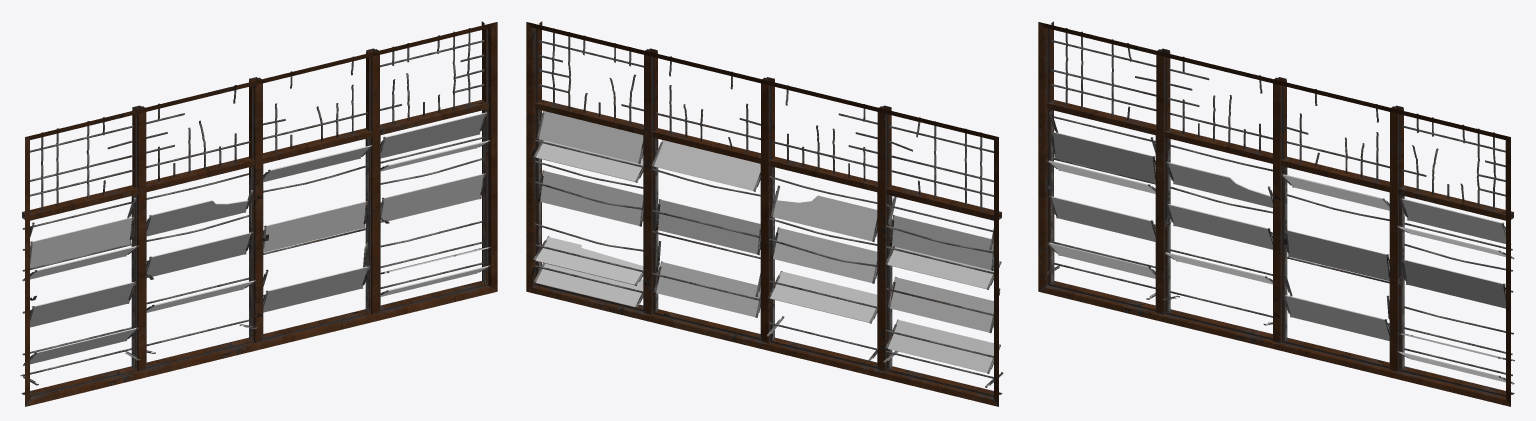
The model's file is 333_windowframe_1.FBX.
3 renders of one model, left to right at view 1: azimuth 30°, elevation 25°; view 2: azimuth 150°, elevation 25°; view 3: azimuth 330°, elevation 25°, orthographic.
Parts seen in each view (by area): view 1: 333_windowframe_1; view 2: 333_windowframe_1; view 3: 333_windowframe_1.
Boxes of the visible parts, x1=… form: 333_windowframe_1: x1=20, y1=21, x2=497, y2=406; 333_windowframe_1: x1=526, y1=21, x2=1003, y2=406; 333_windowframe_1: x1=1038, y1=21, x2=1514, y2=406.
Size of the model in its own units: 351 by 192 by 20.71.
